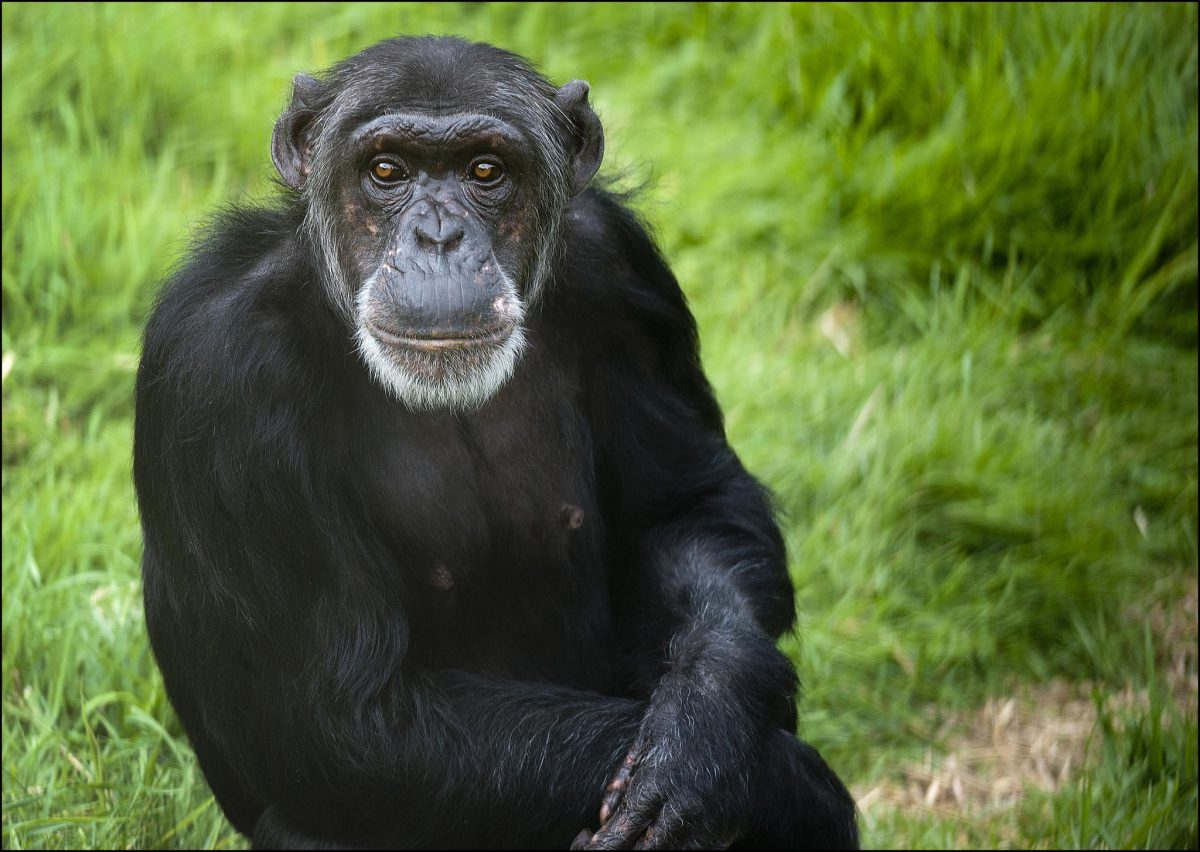Chimpanzee: (118, 16, 816, 842)
